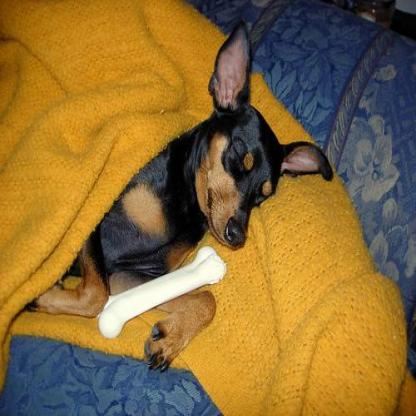miniature_pinscher: (23, 9, 338, 377)
